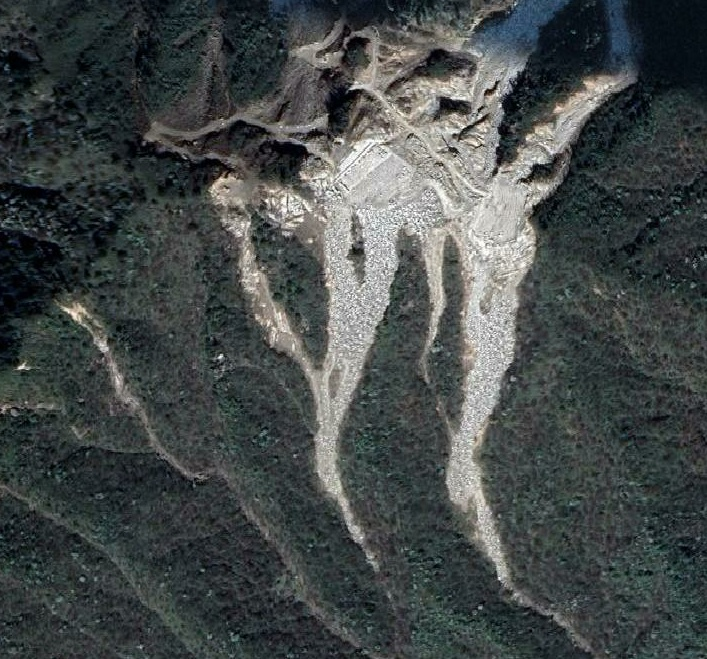slope: (201, 0, 651, 597)
